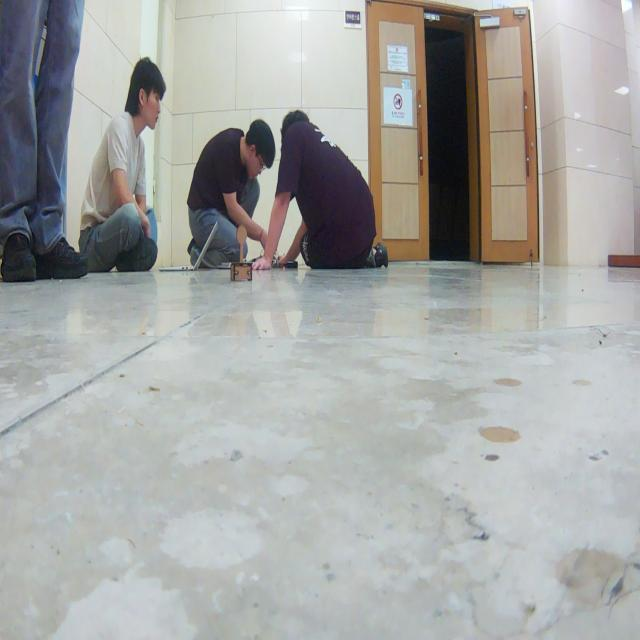target: (230, 224, 252, 282)
